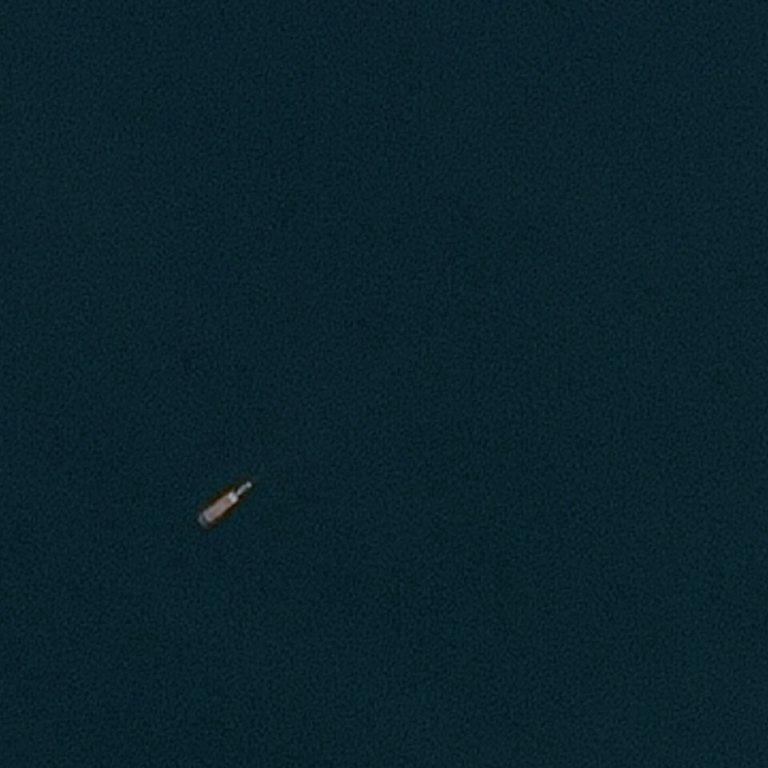ship: (194, 486, 247, 528), (199, 516, 205, 522), (236, 497, 242, 500), (2, 490, 5, 495)
